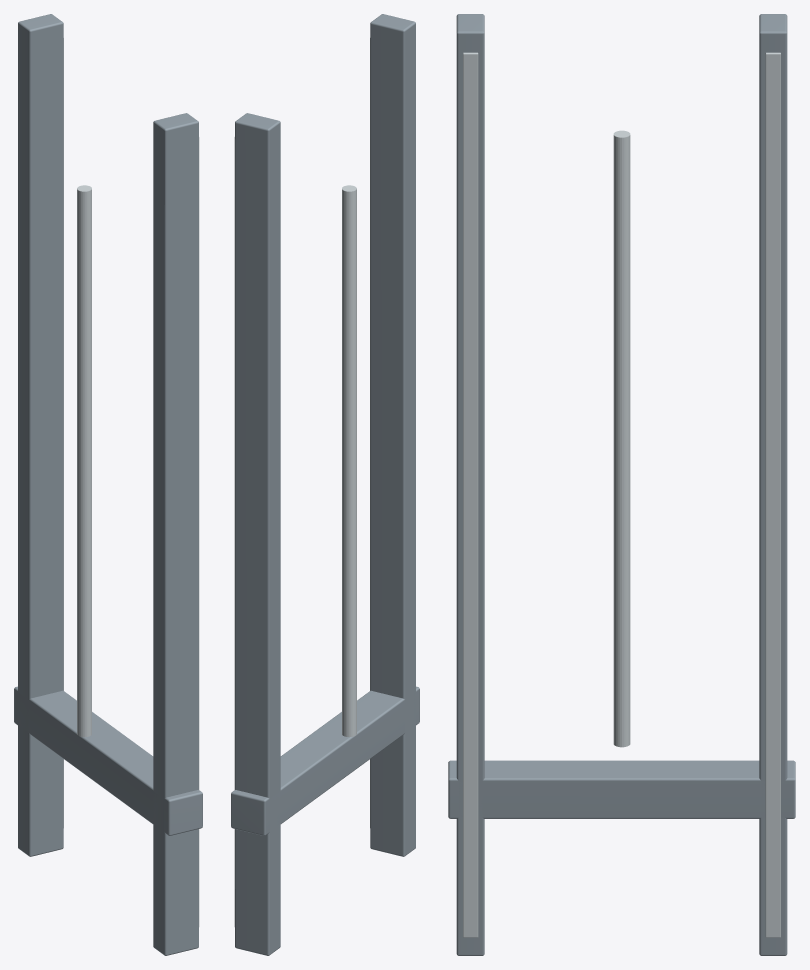
Rendered from SM_MovingMast.fbx.
The picture shows the model from 3 angles, left to right: view 1: azimuth 30°, elevation 25°; view 2: azimuth 150°, elevation 25°; view 3: azimuth 270°, elevation 25°; orthographic projection. The views are drawn at different scales.
Parts seen in each view (by area): view 1: SM_MovingMast; view 2: SM_MovingMast; view 3: SM_MovingMast.
Boxes of the visible parts, x1,y1,x2,y2 form: SM_MovingMast: [14, 14, 202, 955]; SM_MovingMast: [231, 14, 419, 955]; SM_MovingMast: [448, 14, 795, 955].
Bounding box in the file's own units: 62 × 11.6 × 182.
